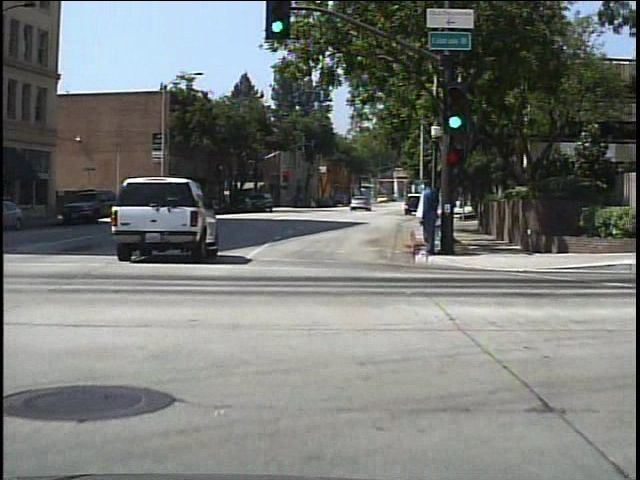person: (418, 177, 443, 258), (412, 182, 435, 260), (307, 193, 319, 209)
